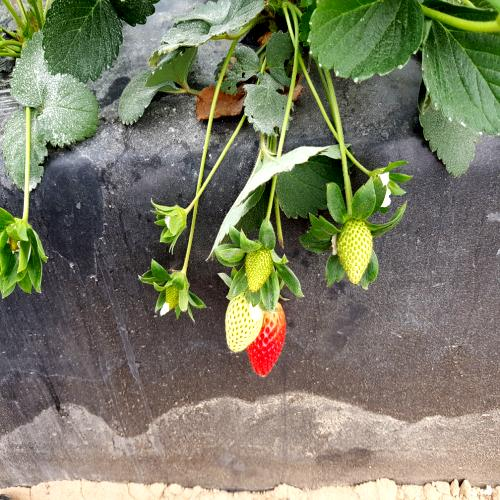ripe: (247, 292, 288, 379)
unripe: (218, 286, 260, 360)
